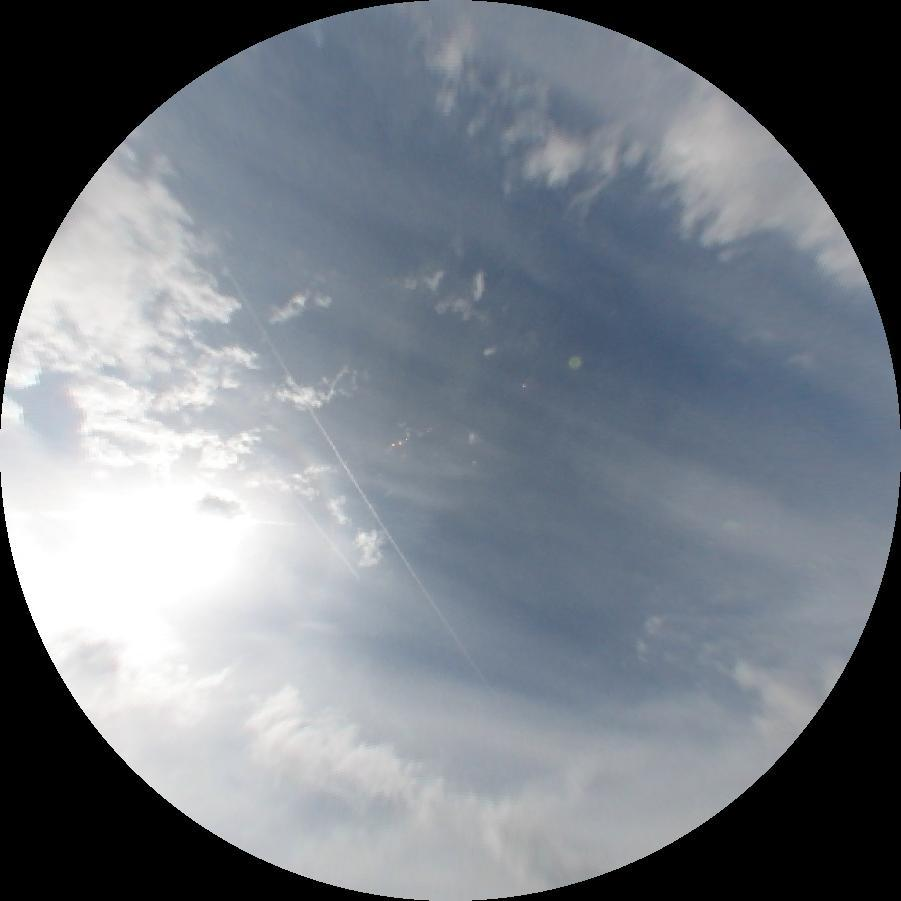contrail young: (212, 252, 500, 703), (291, 492, 362, 581)
parasite: (249, 521, 297, 526)
sun: (31, 488, 252, 614)
